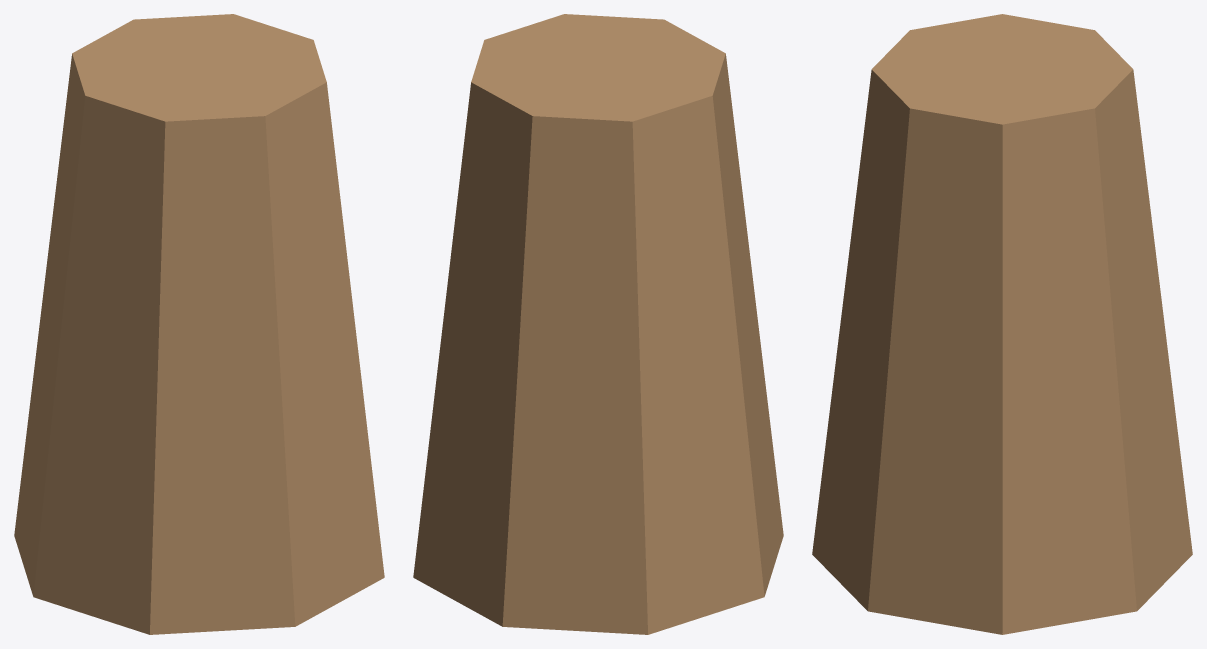
File: prop-router-plane-knob-rp1.fbx
3 views of the same model, side by side, from view 1: azimuth 30°, elevation 25°; view 2: azimuth 150°, elevation 25°; view 3: azimuth 270°, elevation 25° (orthographic).
Visible parts, largest first — view 1: prop-router-plane-knob-rp1; view 2: prop-router-plane-knob-rp1; view 3: prop-router-plane-knob-rp1.
Boxes of the visible parts, <box> form: prop-router-plane-knob-rp1: <box>14,14,384,634</box>; prop-router-plane-knob-rp1: <box>413,14,783,634</box>; prop-router-plane-knob-rp1: <box>812,14,1192,634</box>.
Bounding box in the file's own units: 3.2 × 4.5 × 3.2.
